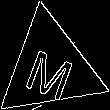M_N: (21, 35, 79, 99)
